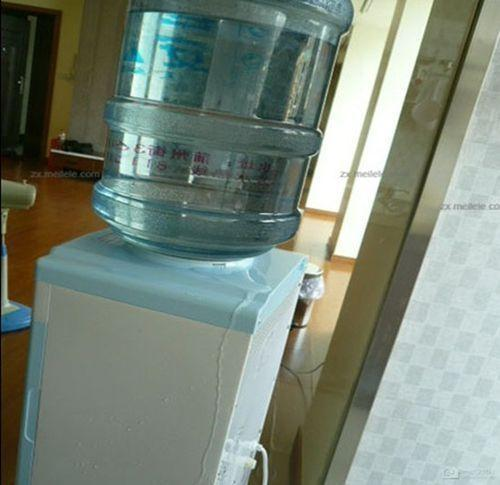Dispenser: (12, 0, 354, 484)
